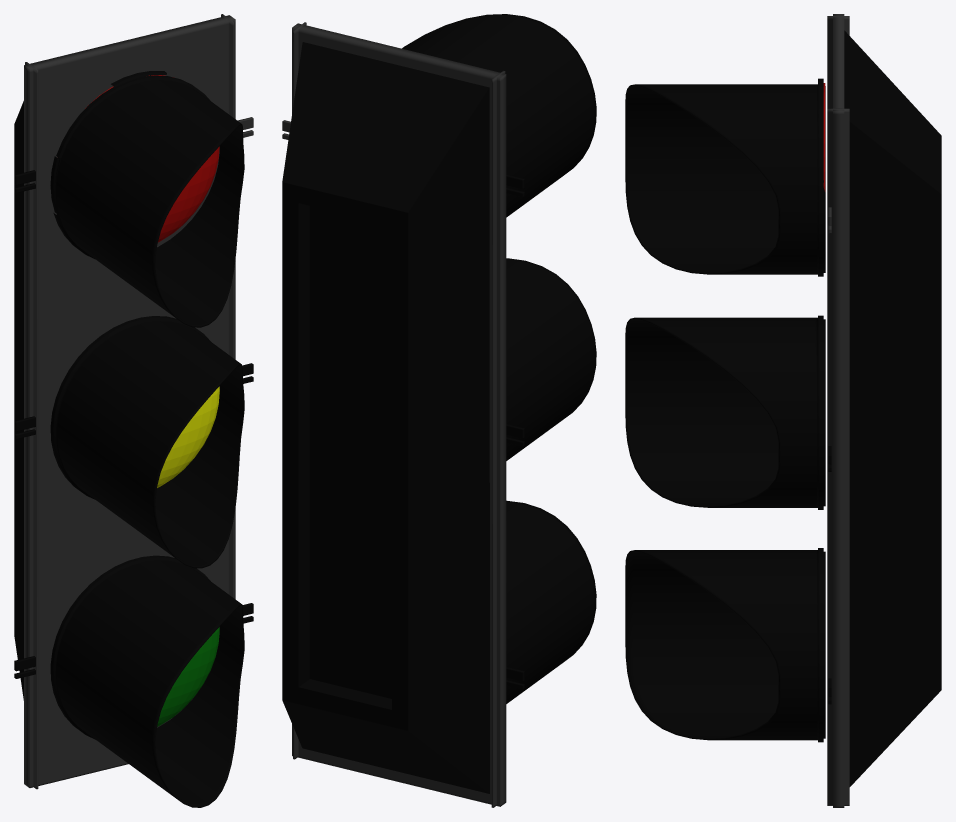
File: TrafficLightHorizontal.fbx
3 renders of one model, left to right at view 1: azimuth 30°, elevation 25°; view 2: azimuth 150°, elevation 25°; view 3: azimuth 270°, elevation 25°, orthographic. The views are drawn at different scales.
Parts seen in each view (by area): view 1: Base_LOD0, Lights; view 2: Base_LOD0; view 3: Base_LOD0.
Part boxes in pixels (box(x1,y1,x2,y2)): Base_LOD0: box(14, 14, 253, 807); Lights: box(85, 75, 219, 726); Base_LOD0: box(282, 14, 596, 807); Base_LOD0: box(625, 14, 941, 807).
Bounding box in the file's own units: 67.31 × 195 × 80.11.
